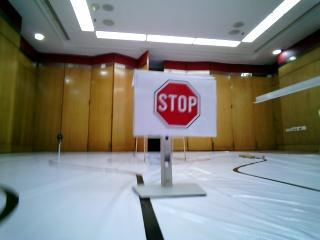stop: (129, 72, 215, 131)
